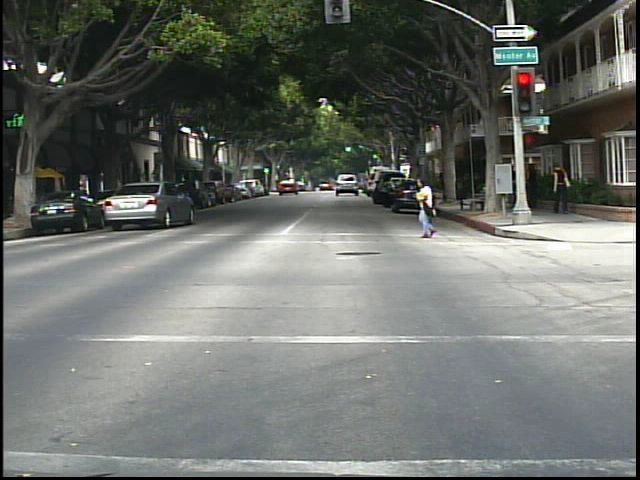person: (411, 175, 447, 243), (551, 158, 577, 219), (526, 158, 546, 215)
